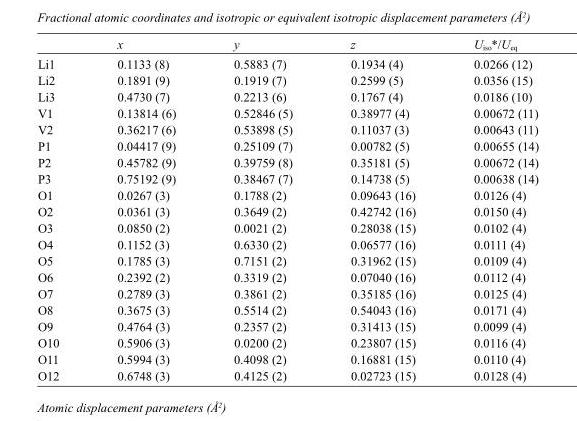table: (36, 37, 538, 382)
table column: (320, 37, 443, 382), (87, 37, 204, 382), (204, 37, 320, 382), (443, 37, 538, 382), (36, 37, 87, 382)
table column header: (36, 37, 538, 54)
table row: (36, 54, 538, 72), (36, 37, 538, 54), (36, 104, 538, 121), (36, 137, 538, 154), (36, 186, 538, 203), (36, 219, 538, 236), (36, 268, 538, 285), (36, 301, 538, 318), (36, 350, 538, 367), (36, 72, 538, 88), (36, 88, 538, 104), (36, 121, 538, 137), (36, 154, 538, 170), (36, 170, 538, 186), (36, 203, 538, 219), (36, 236, 538, 252), (36, 252, 538, 268), (36, 285, 538, 301), (36, 318, 538, 334), (36, 334, 538, 350), (36, 367, 538, 382)
